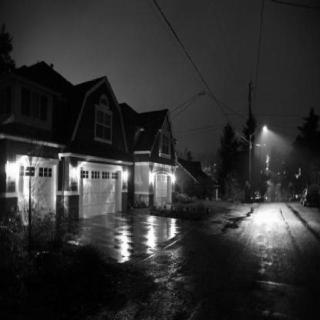other: (253, 204, 283, 224), (145, 168, 158, 186), (167, 168, 180, 185), (121, 168, 130, 184)
